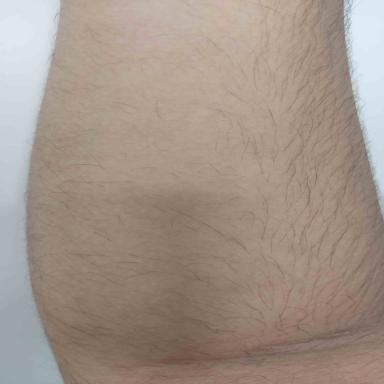normal skin: (28, 0, 383, 384)
